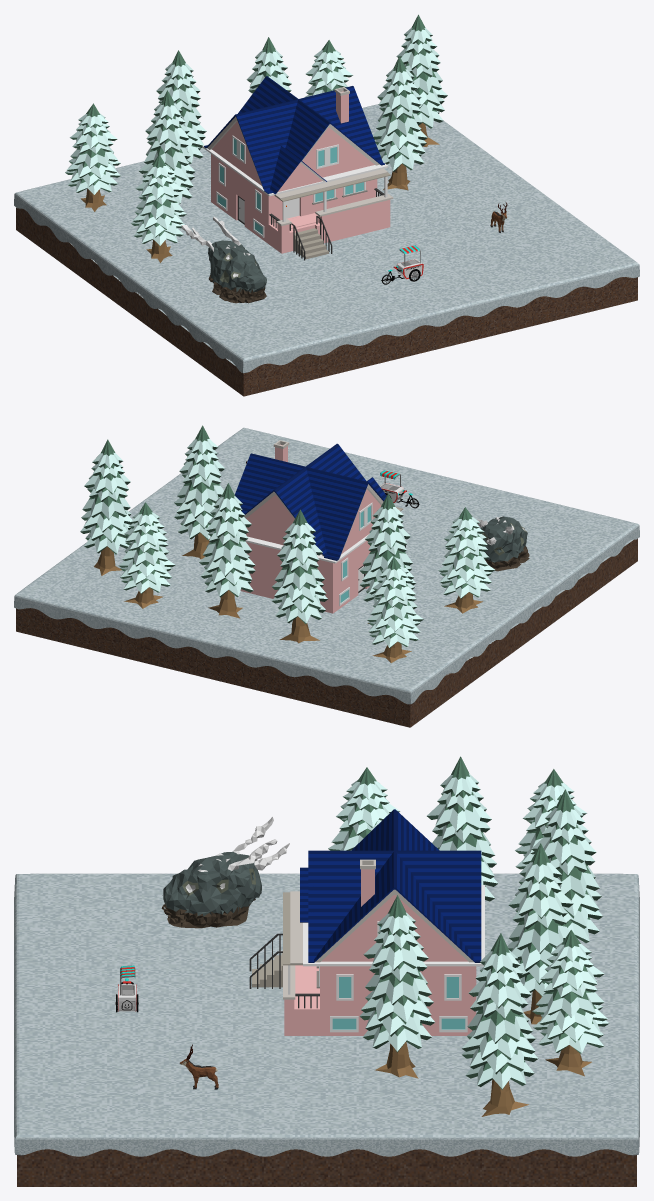
3 views of the same model, one above another, from view 1: azimuth 30°, elevation 25°; view 2: azimuth 150°, elevation 25°; view 3: azimuth 270°, elevation 25° (orthographic). The views are drawn at different scales.
Visible parts, largest first — view 1: Cube.003, Cube.313, OBJRANDOM_METEORITE, VEHICLES_SNOWBAL_BIKE; view 2: Cube.003, Cube.313, OBJRANDOM_METEORITE, VEHICLES_SNOWBAL_BIKE; view 3: Cube.003, Cube.313, OBJRANDOM_METEORITE, VEHICLES_SNOWBAL_BIKE.
Part boxes in pixels (<box>): Cube.003: <box>14,14,639,396</box>; Cube.313: <box>202,76,393,260</box>; OBJRANDOM_METEORITE: <box>181,216,266,303</box>; VEHICLES_SNOWBAL_BIKE: <box>381,245,423,284</box>; Cube.003: <box>14,425,639,727</box>; Cube.313: <box>235,440,405,613</box>; OBJRANDOM_METEORITE: <box>477,516,529,571</box>; VEHICLES_SNOWBAL_BIKE: <box>379,470,419,508</box>; Cube.003: <box>14,756,639,1186</box>; Cube.313: <box>249,809,484,1035</box>; OBJRANDOM_METEORITE: <box>161,817,289,928</box>; VEHICLES_SNOWBAL_BIKE: <box>115,965,138,1012</box>.
Bounding box in the file's own units: 4040 × 1670 × 4040.
36 materials, 3 textured.
